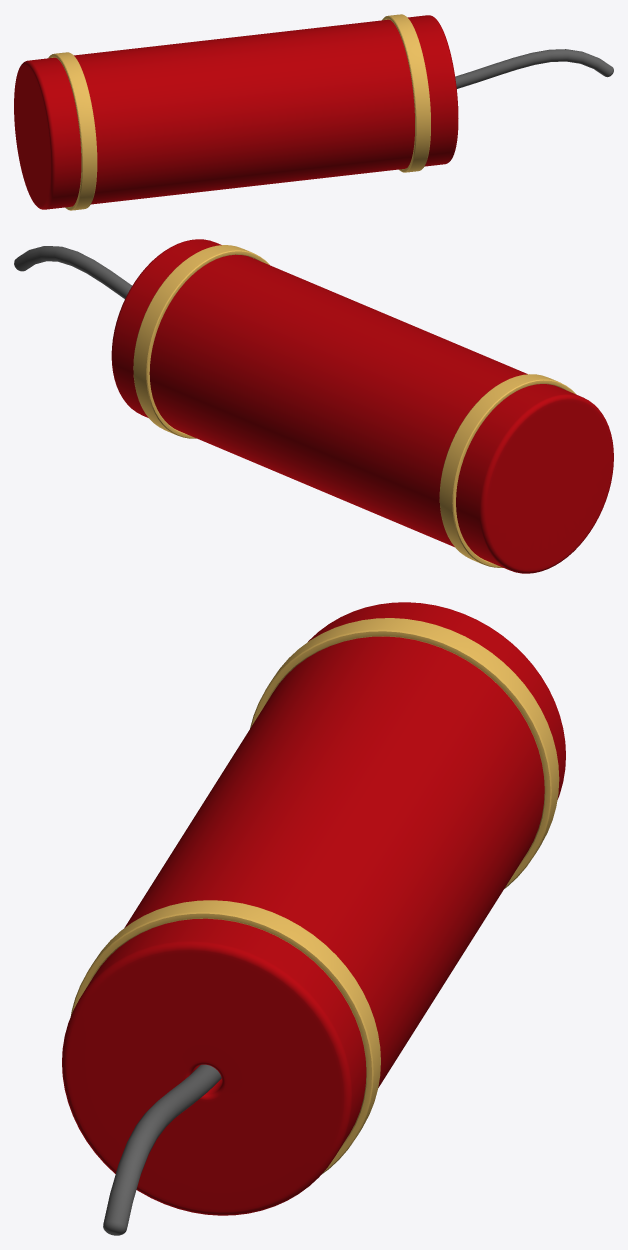
File: bullet.glb
3 views of the same model, one above another, from view 1: azimuth 30°, elevation 25°; view 2: azimuth 150°, elevation 25°; view 3: azimuth 270°, elevation 25° (orthographic). The views are drawn at different scales.
Parts seen in each view (by area): view 1: Cylinder.031, Cylinder.030, BézierCurve.005; view 2: Cylinder.031, Cylinder.030, BézierCurve.005; view 3: Cylinder.031, Cylinder.030, BézierCurve.005.
Part boxes in pixels (left/top/right/bottom): Cylinder.031: left=14, top=15, right=458, bottom=209; Cylinder.030: left=48, top=14, right=430, bottom=210; BézierCurve.005: left=455, top=49, right=613, bottom=88; Cylinder.031: left=111, top=239, right=613, bottom=573; Cylinder.030: left=133, top=245, right=575, bottom=567; BézierCurve.005: left=14, top=246, right=131, bottom=298; Cylinder.031: left=62, top=602, right=565, bottom=1215; Cylinder.030: left=70, top=618, right=559, bottom=1173; BézierCurve.005: left=103, top=1064, right=221, bottom=1235.
Size of the model in its own units: 0.3278 by 0.0863 by 0.1377.
